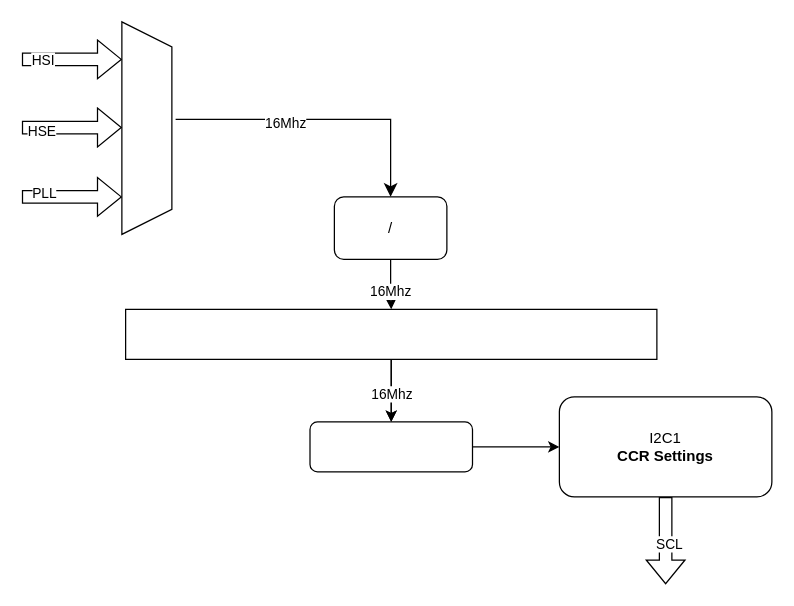
This 794x606 diagram has some shape labels left out. Each missing label, with the box of its shape:
APB 1 bus (42Mhz Max) - actual value is 16Mhz: (124, 308, 657, 359)
CR2_Freq: (309, 421, 472, 472)
